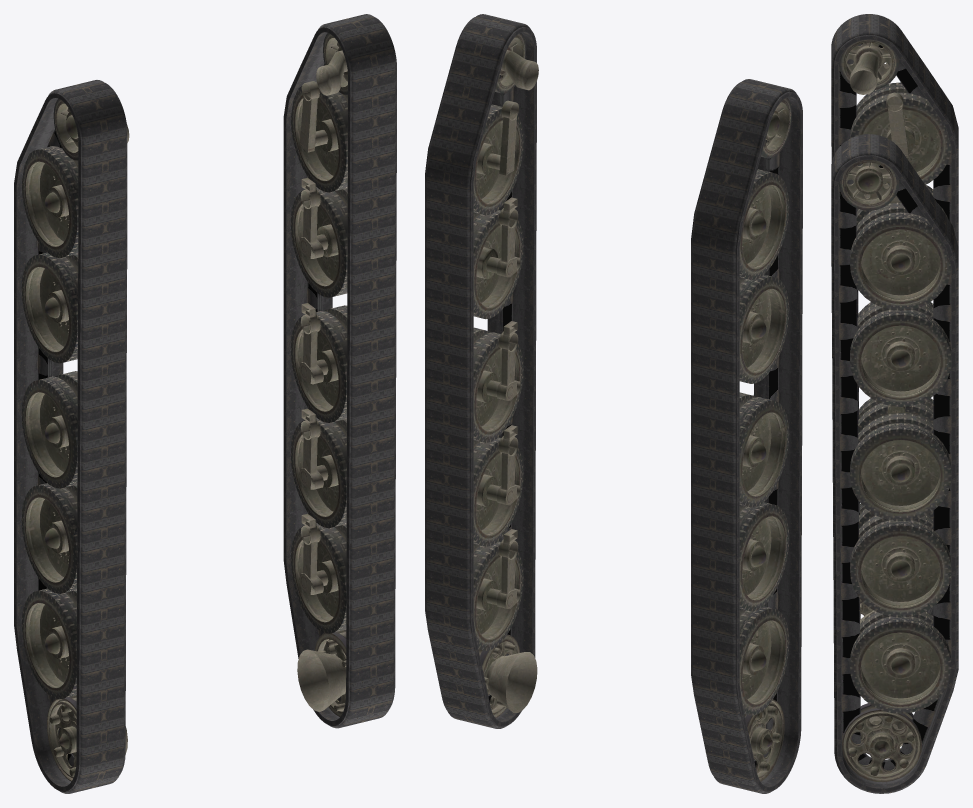
Rendered from Chassis.glb.
3 views of the same model, side by side, from view 1: azimuth 30°, elevation 25°; view 2: azimuth 150°, elevation 25°; view 3: azimuth 270°, elevation 25° (orthographic). The views are drawn at different scales.
Parts seen in each view (by area): view 1: set_1_group_0, set_0_group_0, set_3_group_0, set_2_group_0; view 2: set_1_group_0, set_0_group_0, set_3_group_0, set_2_group_0; view 3: set_3_group_0, set_0_group_0, set_2_group_0, set_1_group_0.
Boxes of the visible parts, x1,y1,x2,y2 form: set_1_group_0: (14,80,127,793); set_0_group_0: (283,14,396,728); set_3_group_0: (291,33,347,716); set_2_group_0: (21,99,129,781); set_1_group_0: (691,79,802,793); set_0_group_0: (425,14,536,728); set_3_group_0: (473,32,538,717); set_2_group_0: (705,97,791,781); set_3_group_0: (838,160,951,782); set_0_group_0: (831,134,958,793); set_2_group_0: (838,39,951,623); set_1_group_0: (831,14,958,619).
Bounding box in the file's own units: 2.72 × 5.78 × 1.04.
4 materials, 4 textured.
